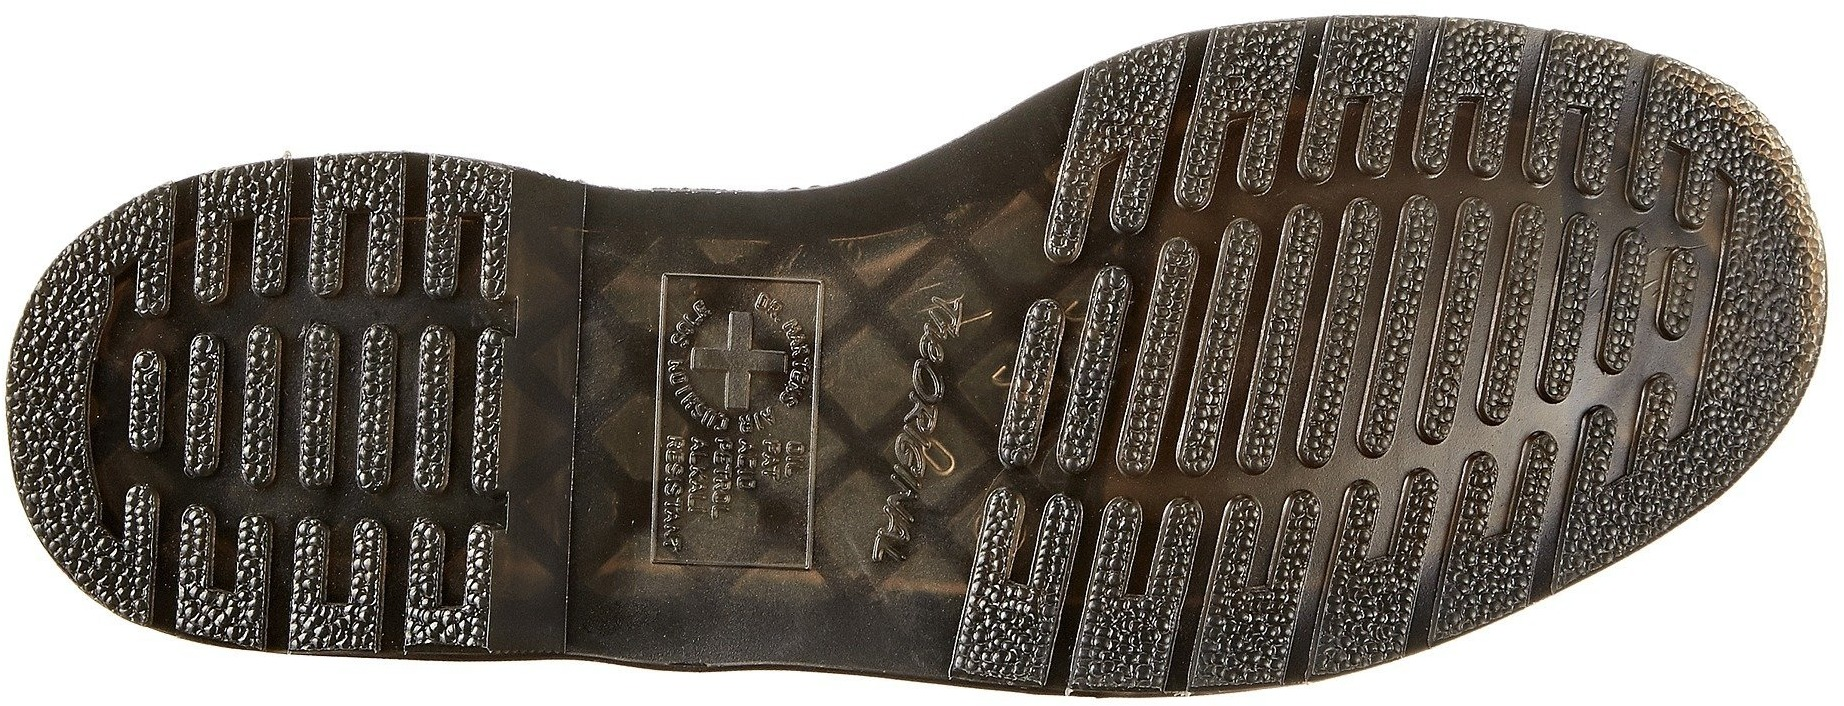circle: (641, 257, 839, 590)
exclude: (563, 118, 993, 680)
quad: (641, 257, 839, 590)
star: (641, 257, 839, 590)
text: (641, 257, 839, 590), (851, 277, 997, 570)
